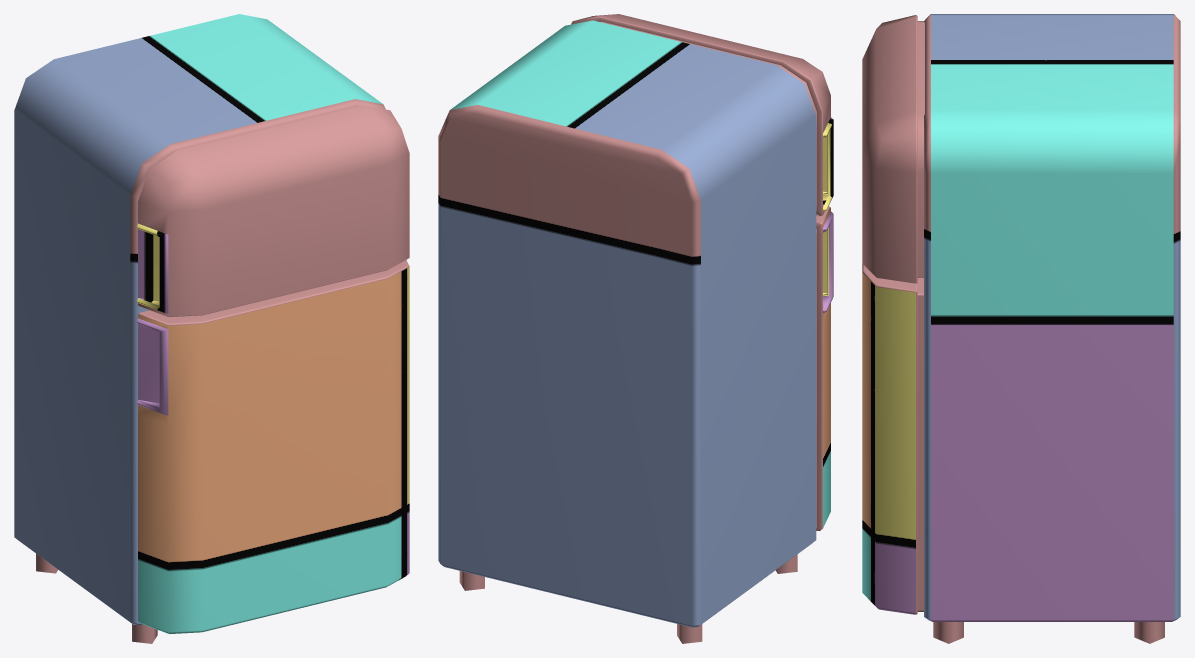
The model's file is Fridge02.fbx.
The picture shows the model from 3 angles, left to right: view 1: azimuth 30°, elevation 25°; view 2: azimuth 150°, elevation 25°; view 3: azimuth 270°, elevation 25°; orthographic projection. The views are drawn at different scales.
Visible parts, largest first — view 1: Fridge_Fridge; view 2: Fridge_Fridge; view 3: Fridge_Fridge.
Part boxes in pixels (<box>): Fridge_Fridge: <box>14,14,409,643</box>; Fridge_Fridge: <box>438,14,833,643</box>; Fridge_Fridge: <box>862,14,1180,643</box>.
Bounding box in the file's own units: 90.36 × 161 × 89.46.
